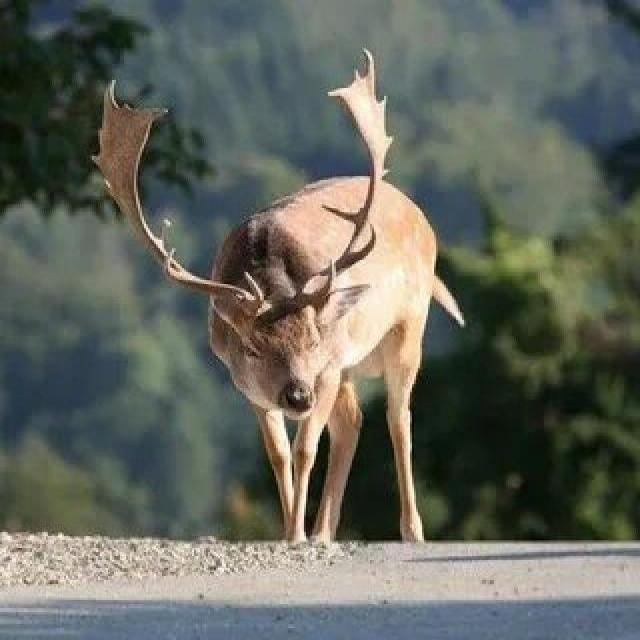deer: (113, 102, 544, 581)
